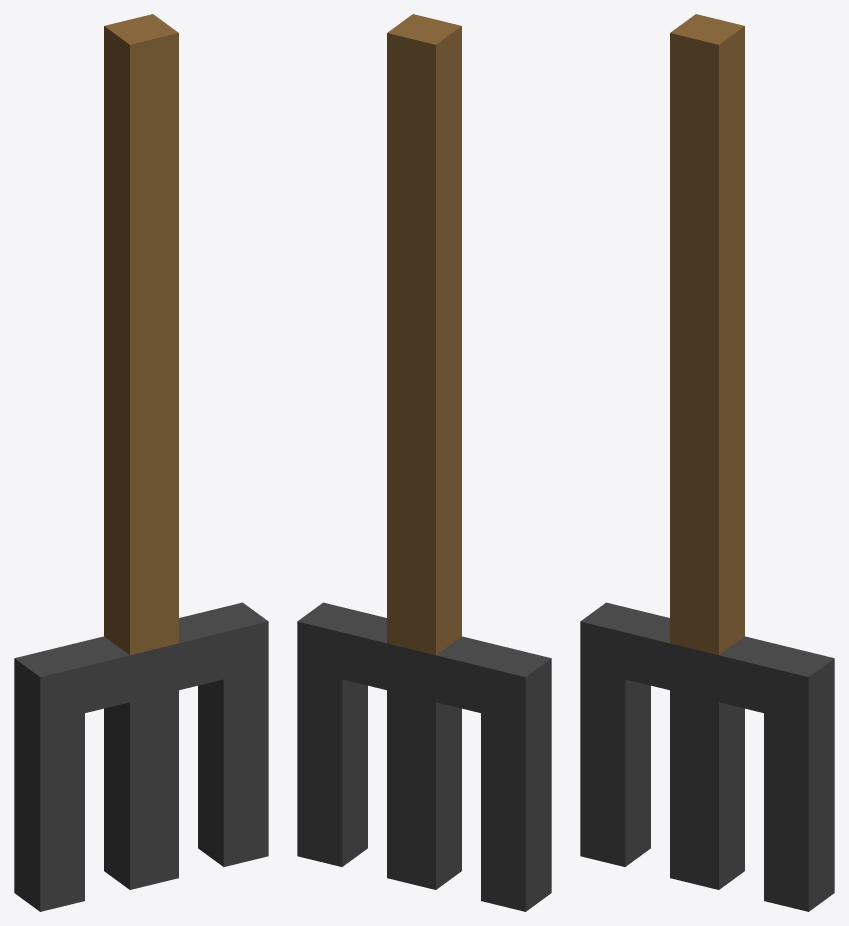
The model's file is Rack.fbx.
The picture shows the model from 3 angles, left to right: view 1: azimuth 30°, elevation 25°; view 2: azimuth 150°, elevation 25°; view 3: azimuth 330°, elevation 25°; orthographic projection.
Parts seen in each view (by area): view 1: Rack; view 2: Rack; view 3: Rack.
Boxes of the visible parts, <box> form: Rack: <box>14,14,268,911</box>; Rack: <box>297,14,551,911</box>; Rack: <box>580,14,834,911</box>.
Size of the model in its own units: 509 by 1800 by 100.
